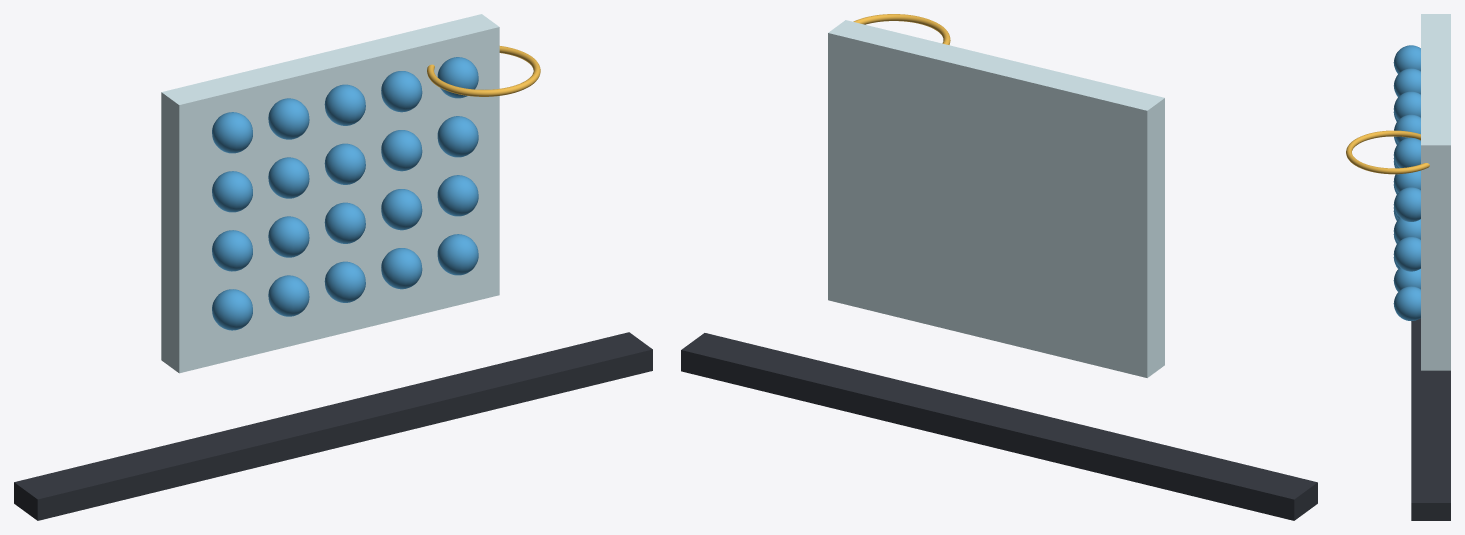
Rendered from chem-states-solid.glb.
The picture shows the model from 3 angles, left to right: view 1: azimuth 30°, elevation 25°; view 2: azimuth 150°, elevation 25°; view 3: azimuth 270°, elevation 25°; orthographic projection. The views are drawn at different scales.
Visible parts, largest first — view 1: fixed-shape-cube-outline, states-lab-bench, packed-solid-lattice-particle-16, packed-solid-lattice-particle-11, packed-solid-lattice-particle-1, packed-solid-lattice-particle-6, packed-solid-lattice-particle-14, packed-solid-lattice-particle-4, packed-solid-lattice-particle-9, packed-solid-lattice-particle-2, packed-solid-lattice-particle-8, packed-solid-lattice-particle-12 (+11 smaller); view 2: fixed-shape-cube-outline, states-lab-bench, tiny-wiggle-vibration-ring; view 3: fixed-shape-cube-outline, states-lab-bench, tiny-wiggle-vibration-ring, packed-solid-lattice-particle-4, packed-solid-lattice-particle-9, packed-solid-lattice-particle-14, packed-solid-lattice-particle-19, packed-solid-lattice-particle-17, packed-solid-lattice-particle-16, packed-solid-lattice-particle-15, packed-solid-lattice-particle-3, packed-solid-lattice-particle-8 (+2 smaller).
Part boxes in pixels (x1=…): fixed-shape-cube-outline: x1=161, y1=14, x2=499, y2=373; states-lab-bench: x1=14, y1=332, x2=652, y2=520; packed-solid-lattice-particle-16: x1=268, y1=98, x2=309, y2=139; packed-solid-lattice-particle-11: x1=268, y1=157, x2=309, y2=198; packed-solid-lattice-particle-1: x1=268, y1=275, x2=309, y2=316; packed-solid-lattice-particle-6: x1=268, y1=216, x2=309, y2=257; packed-solid-lattice-particle-14: x1=437, y1=116, x2=478, y2=157; packed-solid-lattice-particle-4: x1=437, y1=234, x2=478, y2=275; packed-solid-lattice-particle-9: x1=437, y1=175, x2=478, y2=216; packed-solid-lattice-particle-2: x1=324, y1=261, x2=365, y2=302; packed-solid-lattice-particle-8: x1=381, y1=189, x2=422, y2=230; packed-solid-lattice-particle-12: x1=324, y1=143, x2=365, y2=184; fixed-shape-cube-outline: x1=828, y1=20, x2=1164, y2=377; states-lab-bench: x1=681, y1=333, x2=1317, y2=520; tiny-wiggle-vibration-ring: x1=853, y1=14, x2=950, y2=44; fixed-shape-cube-outline: x1=1421, y1=14, x2=1450, y2=370; states-lab-bench: x1=1411, y1=318, x2=1450, y2=520; tiny-wiggle-vibration-ring: x1=1346, y1=130, x2=1429, y2=174; packed-solid-lattice-particle-4: x1=1393, y1=286, x2=1420, y2=320; packed-solid-lattice-particle-9: x1=1393, y1=237, x2=1420, y2=271; packed-solid-lattice-particle-14: x1=1393, y1=187, x2=1420, y2=221; packed-solid-lattice-particle-19: x1=1393, y1=137, x2=1420, y2=167; packed-solid-lattice-particle-17: x1=1393, y1=91, x2=1420, y2=120; packed-solid-lattice-particle-16: x1=1393, y1=68, x2=1420, y2=96; packed-solid-lattice-particle-15: x1=1393, y1=45, x2=1420, y2=73; packed-solid-lattice-particle-3: x1=1393, y1=268, x2=1420, y2=291; packed-solid-lattice-particle-8: x1=1393, y1=218, x2=1420, y2=242.
Size of what is drawn, in the model's own units: 2.4 by 1.4 by 0.422.
